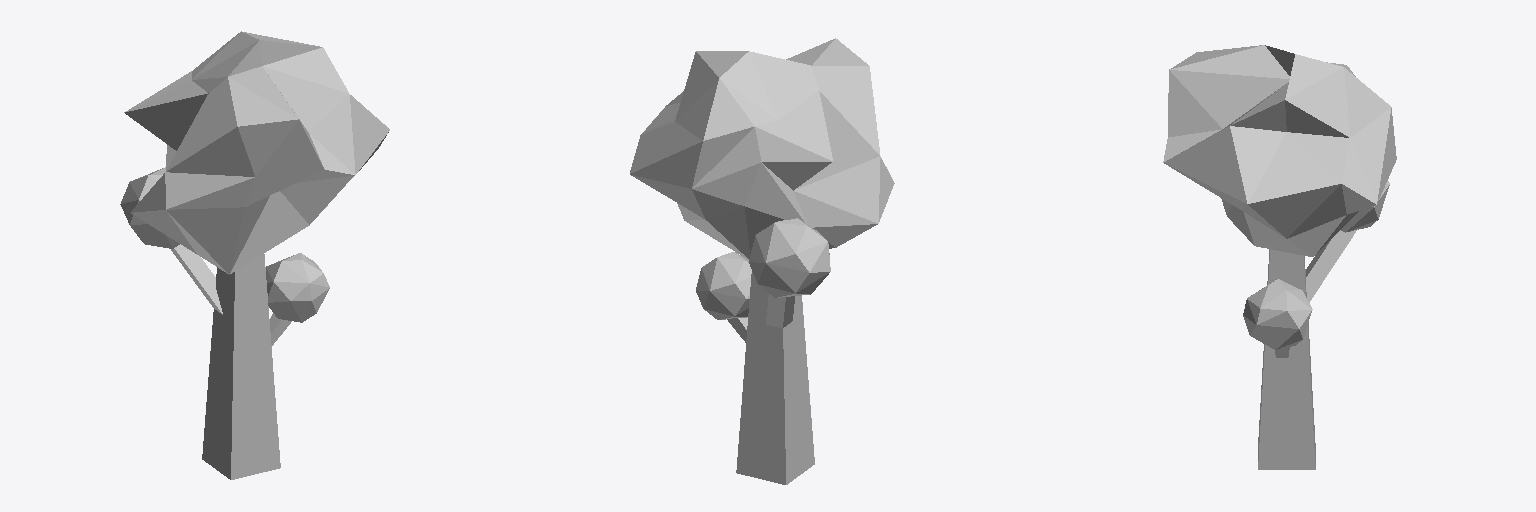
File: tree5.obj
3 views of the same model, side by side, from view 1: azimuth 30°, elevation 25°; view 2: azimuth 150°, elevation 25°; view 3: azimuth 270°, elevation 25° (orthographic).
Visible parts, largest first — view 1: Icosphere.002_Icosphere, Cube.003_Cube.005, Icosphere.003_Icosphere.002, Icosphere.001; view 2: Icosphere.002_Icosphere, Cube.003_Cube.005, Icosphere.001, Icosphere.003_Icosphere.002; view 3: Icosphere.002_Icosphere, Cube.003_Cube.005, Icosphere.003_Icosphere.002, Icosphere.001.
Part boxes in pixels (x1,y1,x2,y2): Icosphere.002_Icosphere: (124, 31, 389, 274); Cube.003_Cube.005: (171, 244, 291, 479); Icosphere.003_Icosphere.002: (266, 253, 329, 322); Icosphere.001: (120, 167, 179, 248); Icosphere.002_Icosphere: (630, 38, 894, 259); Cube.003_Cube.005: (727, 272, 814, 484); Icosphere.001: (749, 218, 830, 297); Icosphere.003_Icosphere.002: (696, 252, 751, 319); Icosphere.002_Icosphere: (1163, 45, 1396, 256); Cube.003_Cube.005: (1258, 229, 1357, 469); Icosphere.003_Icosphere.002: (1243, 279, 1312, 349); Icosphere.001: (1341, 181, 1389, 232).
Bounding box in the file's own units: 2.4 × 4.02 × 2.05.